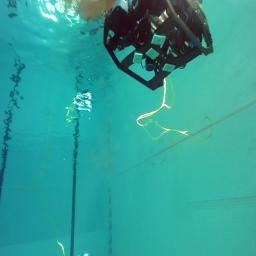Full: (102, 0, 215, 93), (64, 252, 92, 256)
